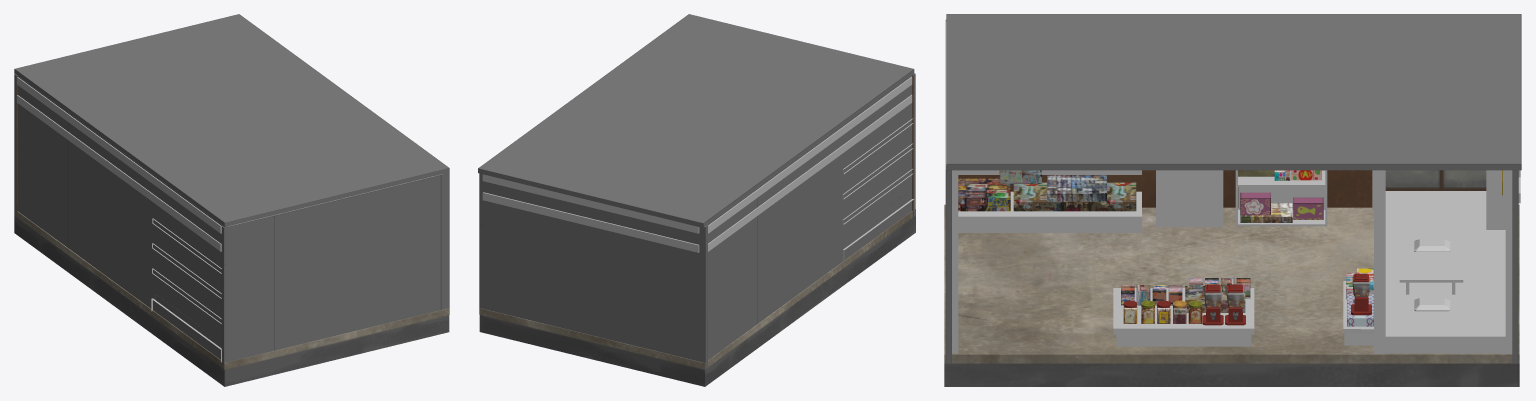
Rendered from Grocery store02.fbx.
The picture shows the model from 3 angles, left to right: view 1: azimuth 30°, elevation 25°; view 2: azimuth 150°, elevation 25°; view 3: azimuth 270°, elevation 25°; orthographic projection. The views are drawn at different scales.
Visible parts, largest first — view 1: Cube.122, Cube.109, Cube.108, Cube.096, Cube.104, Cube.117, Cube.110; view 2: Cube.122, Cube.110, Cube.108, Cube.096, Cube.028, Cube.104, Cube.117, Cube.119, Cube.109; view 3: Cube.122, Cube.096, Cube.100, Cube.108, Cube.134, Cube.042, Cube.033, Cube.035, Cube.146, Cube.099, Cube.112, Cube.145 (+18 smaller).
Boxes of the visible parts, box(x1,y1,x2,y2) form: Cube.122: box(14, 14, 449, 227); Cube.109: box(221, 172, 449, 369); Cube.108: box(17, 76, 222, 359); Cube.096: box(14, 211, 449, 386); Cube.104: box(16, 95, 221, 251); Cube.117: box(16, 77, 221, 233); Cube.110: box(14, 74, 17, 217); Cube.122: box(478, 14, 914, 227); Cube.110: box(479, 173, 707, 369); Cube.108: box(707, 74, 912, 359); Cube.096: box(479, 209, 915, 386); Cube.028: box(482, 192, 699, 252); Cube.104: box(708, 94, 912, 251); Cube.117: box(708, 76, 912, 233); Cube.119: box(482, 174, 699, 233); Cube.109: box(912, 73, 915, 217); Cube.122: box(946, 14, 1521, 170); Cube.096: box(944, 204, 1519, 386); Cube.100: box(1385, 191, 1505, 353); Cube.108: box(958, 170, 1486, 207); Cube.134: box(1113, 288, 1254, 346); Cube.042: box(958, 191, 1141, 232); Cube.033: box(1156, 170, 1223, 227); Cube.035: box(1235, 170, 1327, 226); Cube.146: box(1013, 182, 1136, 211); Cube.099: box(1374, 170, 1385, 353); Cube.112: box(1399, 251, 1463, 282); Cube.145: box(958, 178, 1010, 211).
Size of the model in its own units: 271 by 187 by 437.
